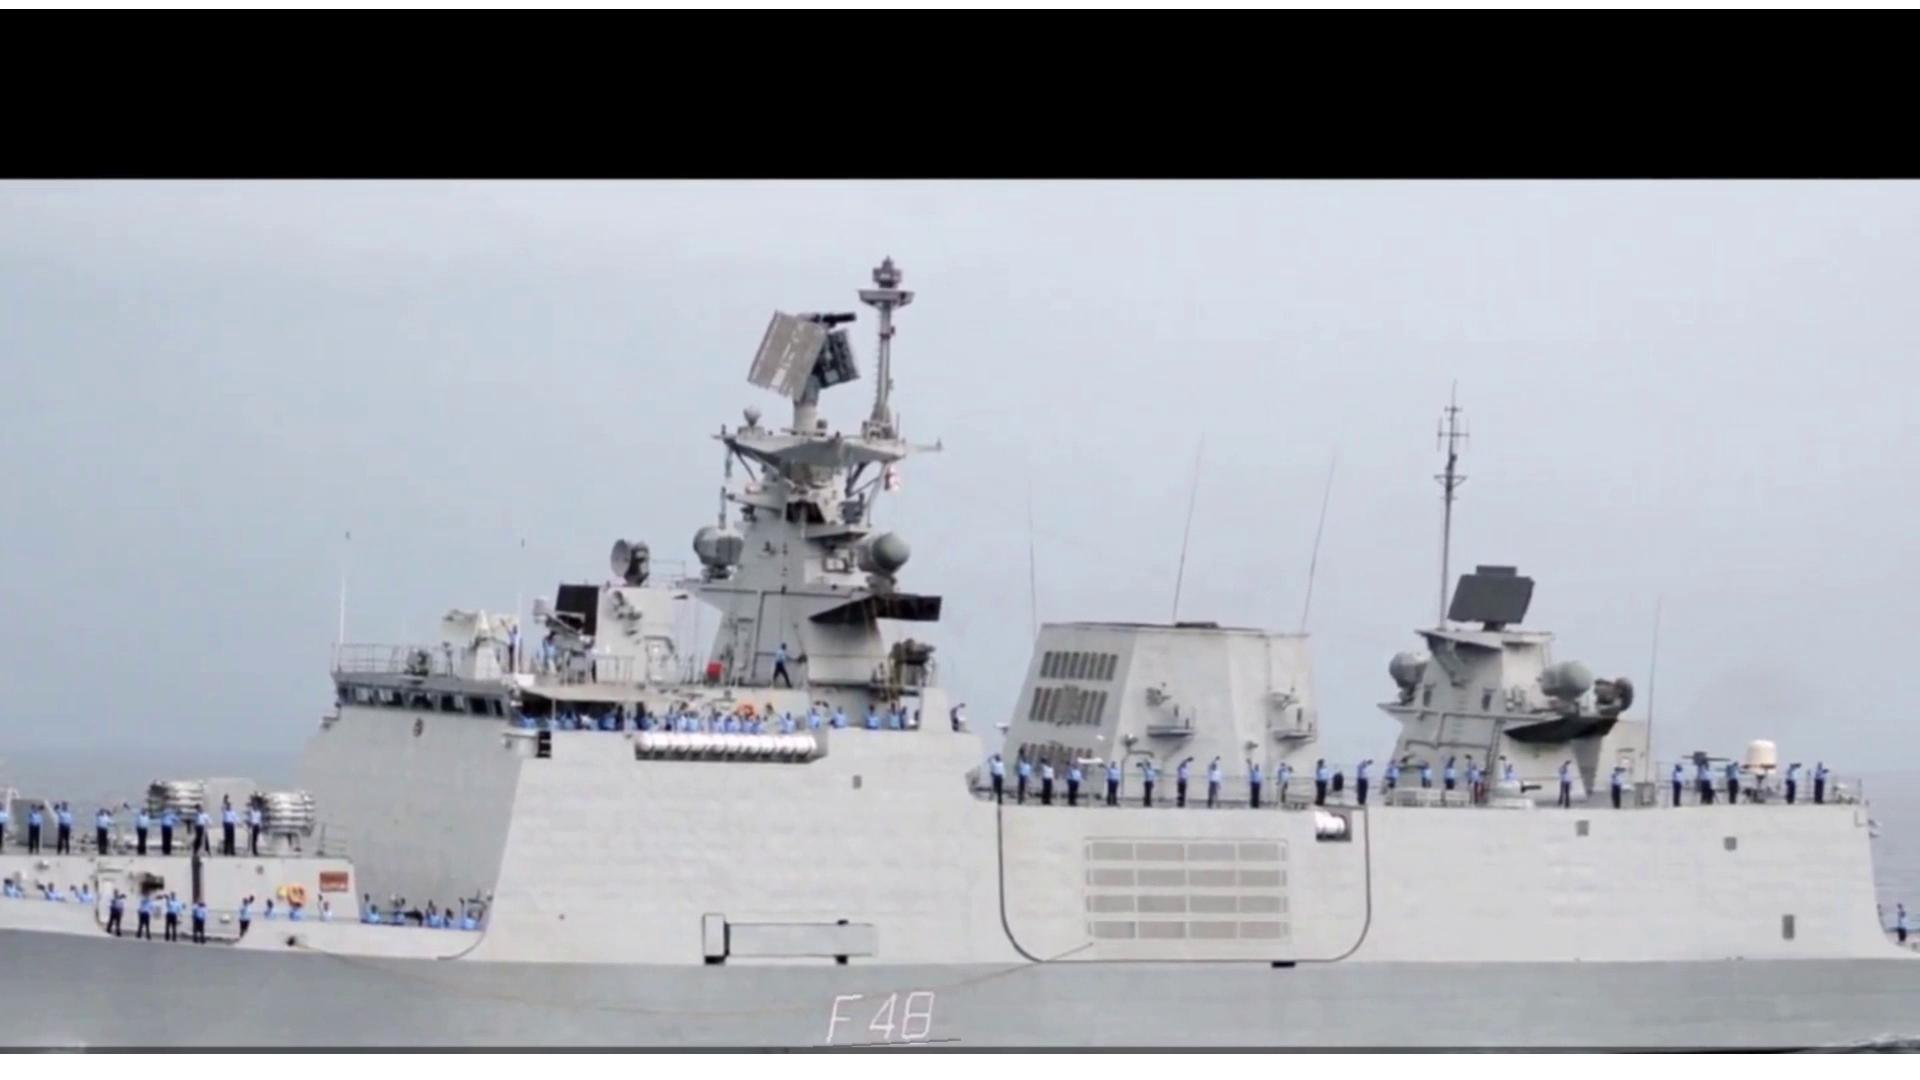OCR: (806, 986, 964, 1048)
